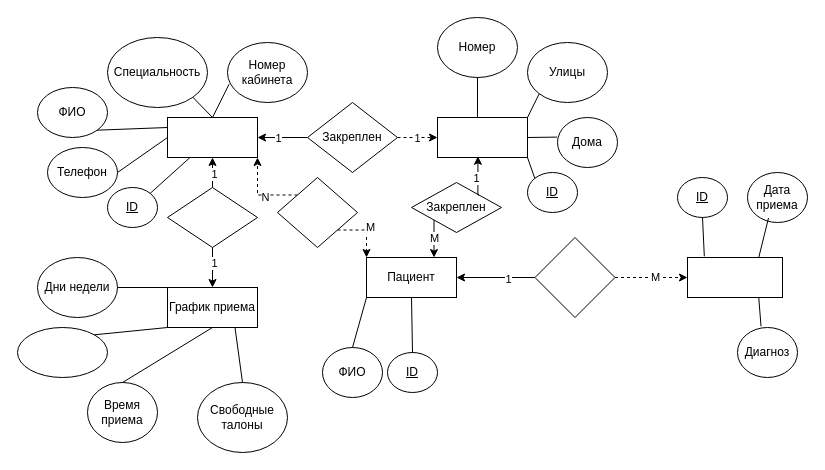
Some shapes in this 825 by 470 pixel diagram are drawn without their labels. The centre of each missing label's shape, as x and y in pixels:
"В рач" goes at point 212,137.
"Выдан" goes at point 574,277.
"Имеет" goes at point 212,217.
"Начало приема" goes at point 62,352.
"Посетил" goes at point 317,212.
"Статталон" goes at point 734,277.
"Участок" goes at point 482,137.
